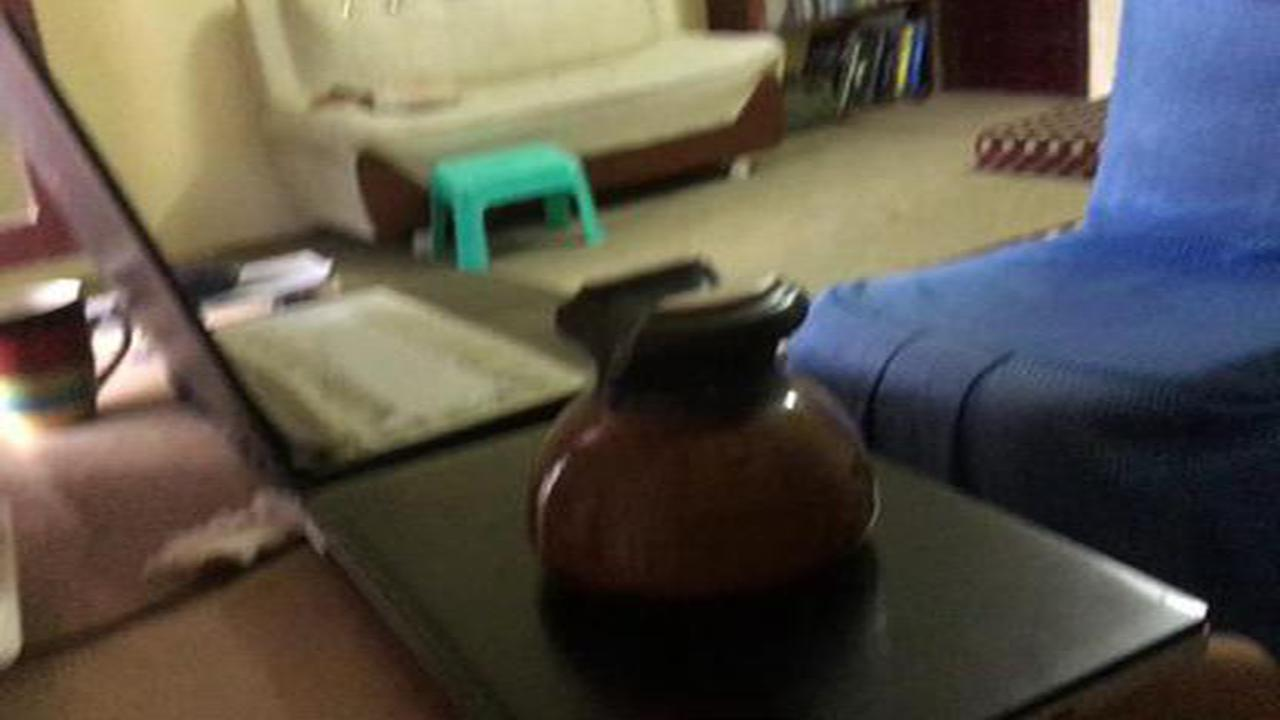insulator_pin: (517, 257, 899, 636)
